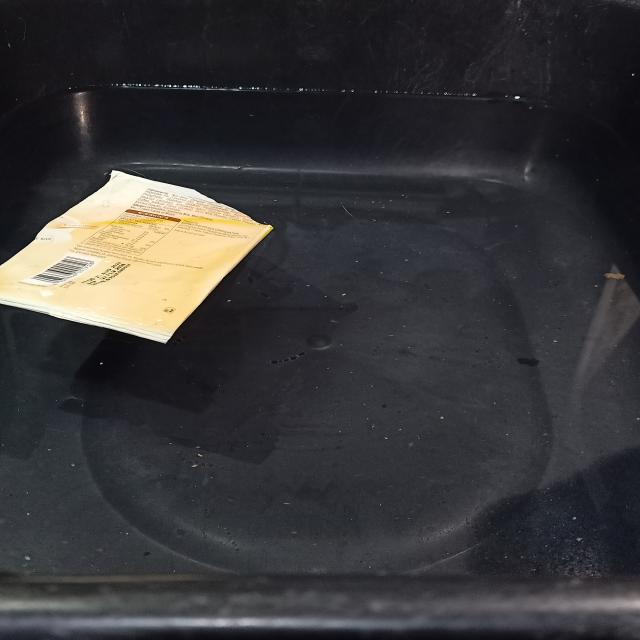Plastic Wrapper: (0, 171, 272, 343)
